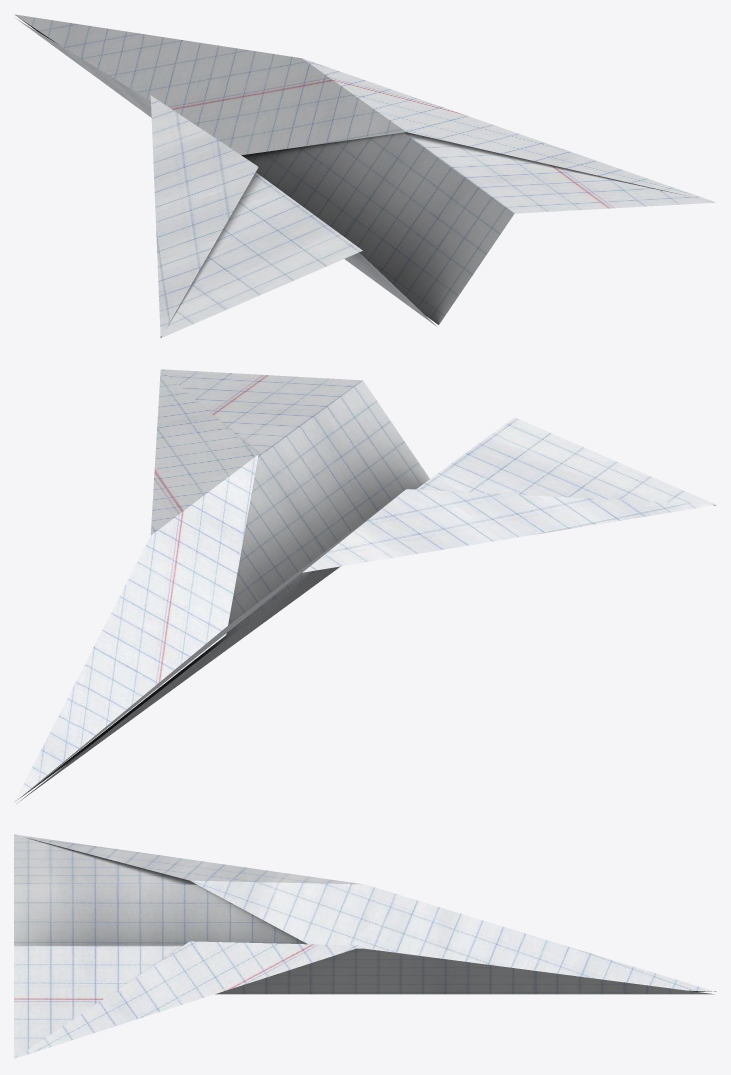
The picture shows the model from 3 angles, top to bottom: view 1: azimuth 30°, elevation 25°; view 2: azimuth 150°, elevation 25°; view 3: azimuth 270°, elevation 25°; orthographic projection. The views are drawn at different scales.
Visible parts, largest first — view 1: Plane001, Plane002; view 2: Plane002, Plane001; view 3: Plane001, Plane002.
Boxes of the visible parts, <box> form: Plane001: <box>15,16,715,337</box>; Plane002: <box>14,14,715,337</box>; Plane002: <box>14,369,715,802</box>; Plane001: <box>17,369,716,802</box>; Plane001: <box>14,834,714,1058</box>; Plane002: <box>15,834,715,1058</box>.
Bounding box in the file's own units: 13.64 × 2.38 × 18.04.
Materials: 2 (2 with a texture image).
